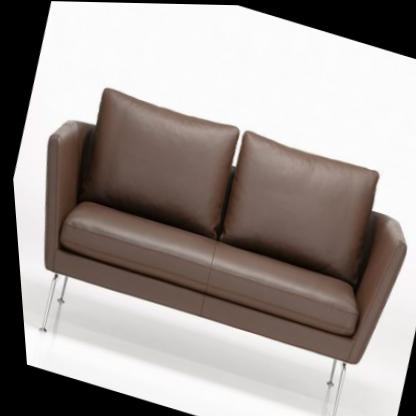Sofa: (4, 65, 416, 416)
